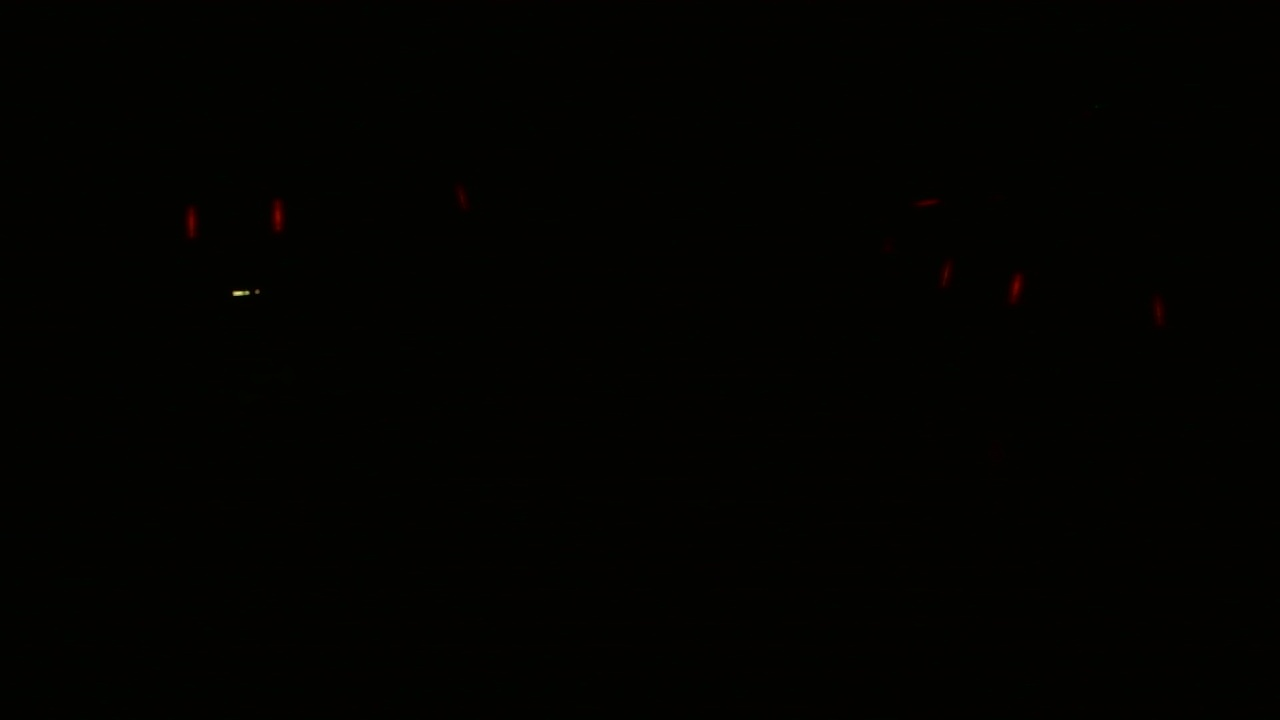pair1: (937, 260, 1022, 306), (180, 200, 285, 237)
